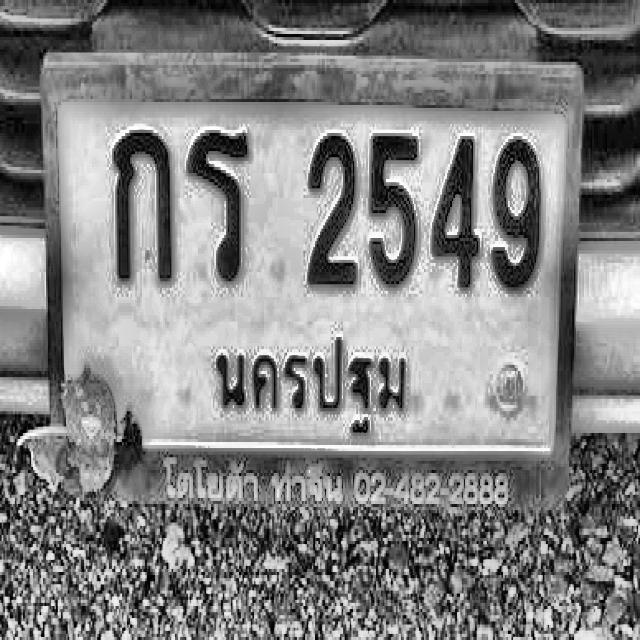license-plate: (37, 59, 603, 518)
